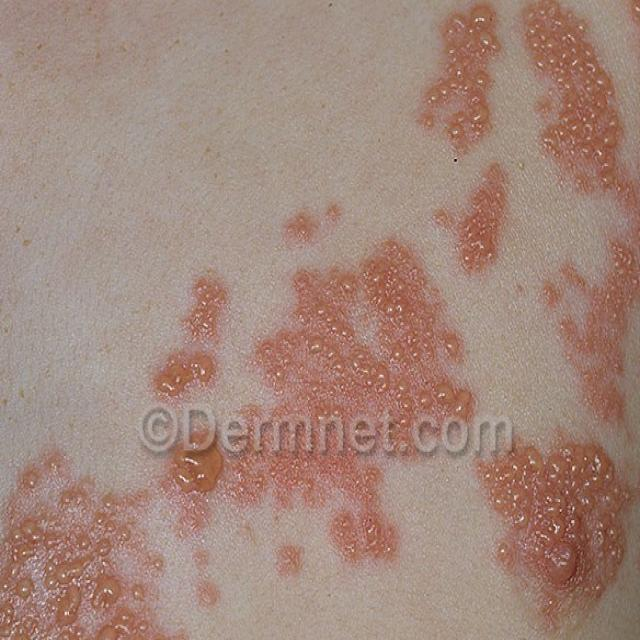Viral Infections: (152, 214, 488, 640), (428, 0, 639, 199), (487, 432, 640, 640), (0, 440, 155, 640), (533, 210, 640, 384)
